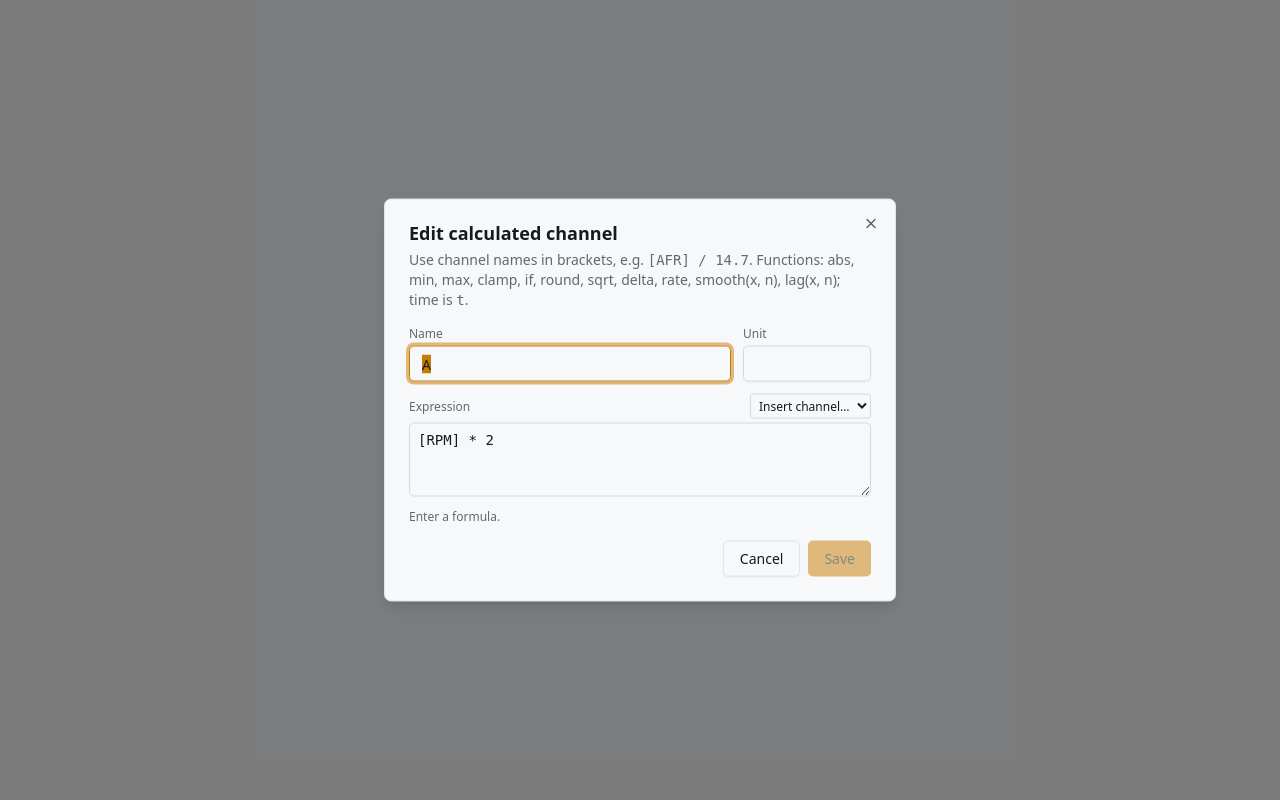
Test: a cycle through another calculated channel is caught before saving
The width and height of the screenshot is (1280, 800).
Replace the text in the text box named "Expression" with "[B] * 2" at point(640, 460), box [409,422,871,496]
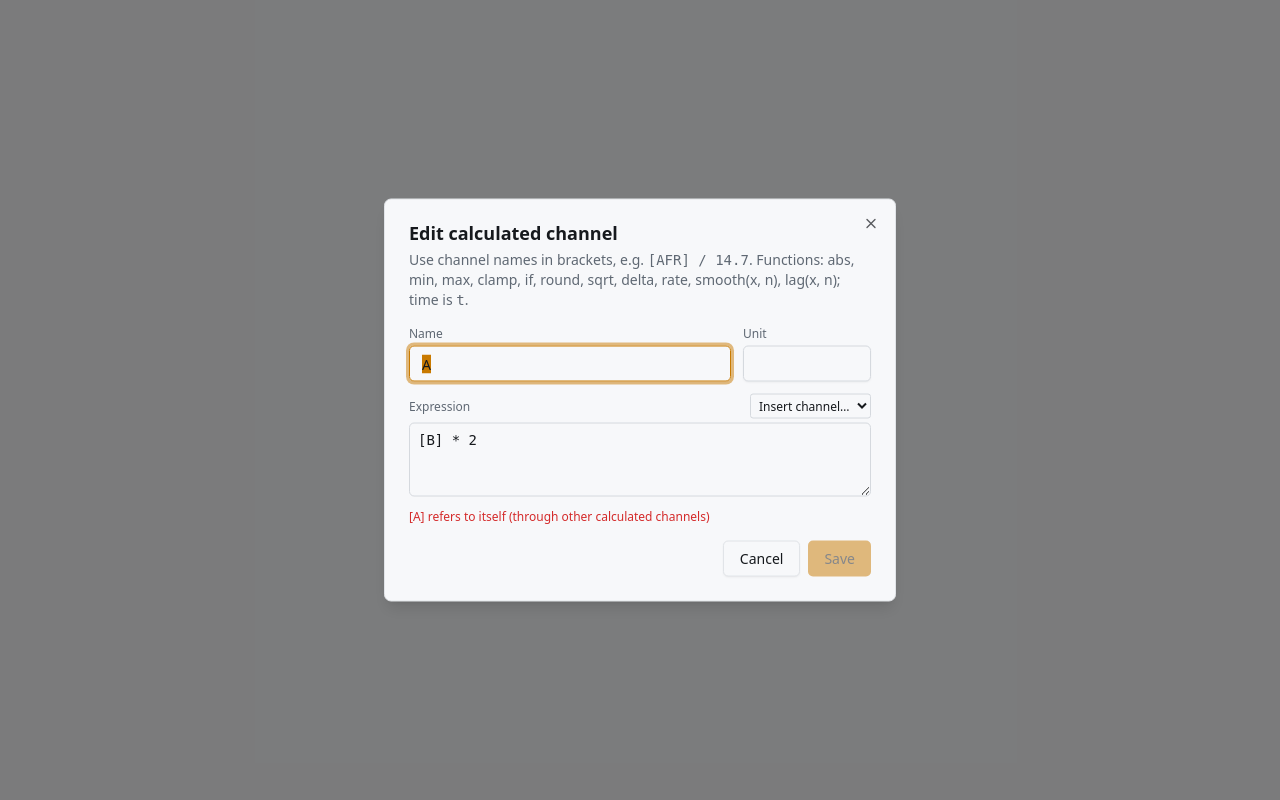
Expected: the button "Save" is disabled, [808,540,871,576]
Expected: the text "[A] refers to itself (through other calculated channels)" is shown, [409,508,710,524]
